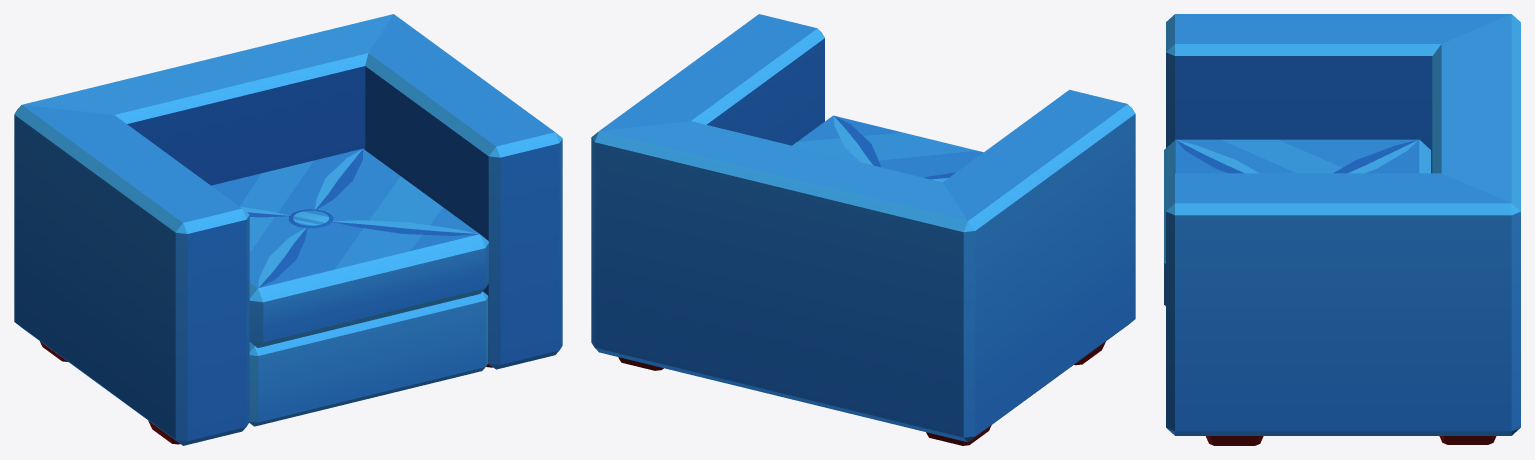
The model's file is sofa_d.fbx.
The picture shows the model from 3 angles, left to right: view 1: azimuth 30°, elevation 25°; view 2: azimuth 150°, elevation 25°; view 3: azimuth 270°, elevation 25°; orthographic projection. The views are drawn at different scales.
Visible parts, largest first — view 1: furniture_small; view 2: furniture_small; view 3: furniture_small.
Part boxes in pixels (x1,y1,x2,y2): furniture_small: [14, 14, 562, 445]; furniture_small: [591, 14, 1135, 445]; furniture_small: [1164, 14, 1520, 445].
Bounding box in the file's own units: 123 × 71.84 × 94.21.
